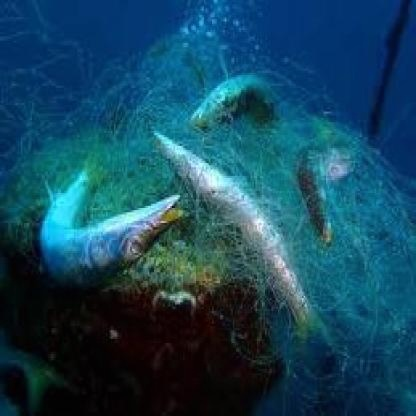net: (42, 52, 416, 362)
